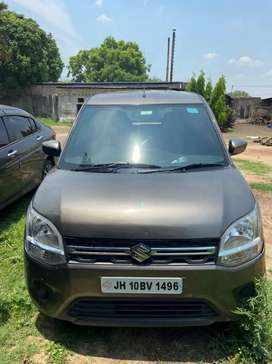JH10BV1496: (100, 276, 182, 293)
